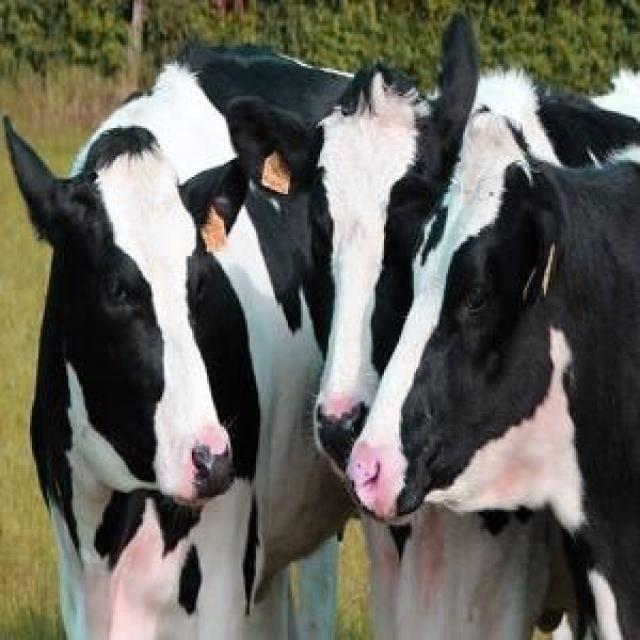cow: (6, 50, 350, 640), (228, 20, 639, 473), (346, 112, 640, 639)
